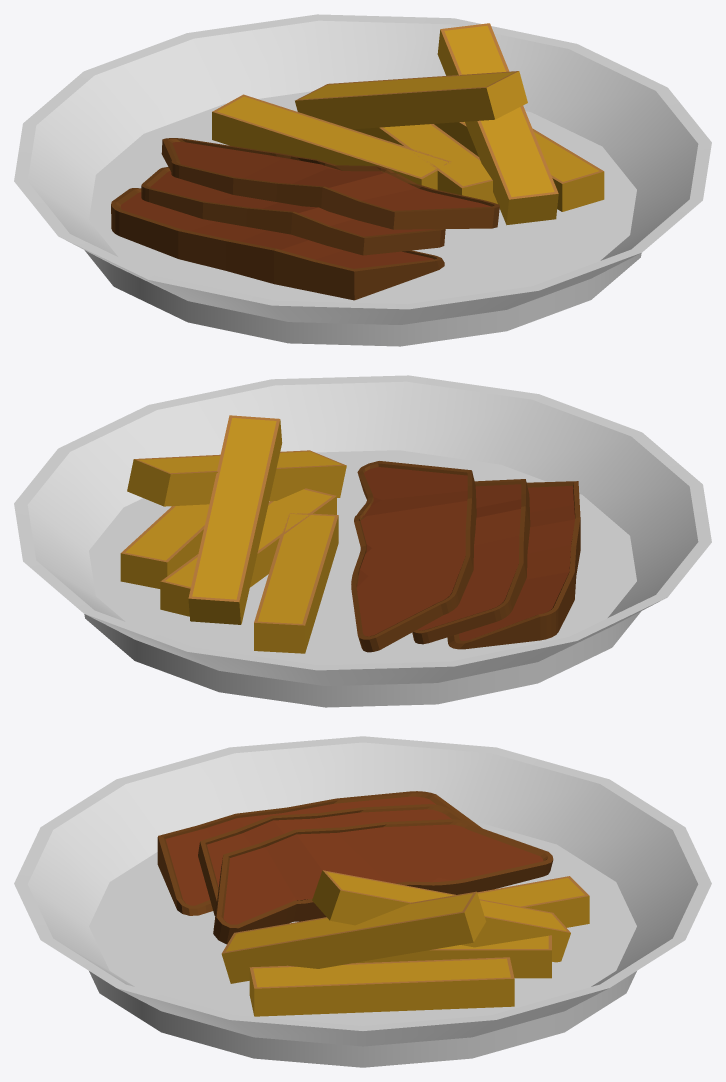
The model's file is Carne con papas.fbx.
3 views of the same model, one above another, from view 1: azimuth 30°, elevation 25°; view 2: azimuth 150°, elevation 25°; view 3: azimuth 270°, elevation 25° (orthographic).
Parts seen in each view (by area): view 1: Plato.003; view 2: Plato.003; view 3: Plato.003.
Boxes of the visible parts, x1,y1,x2,y2 form: Plato.003: (14,14,711,346); Plato.003: (14,375,711,707); Plato.003: (14,736,711,1067).
Size of the model in its own units: 238 by 47.76 by 238.
